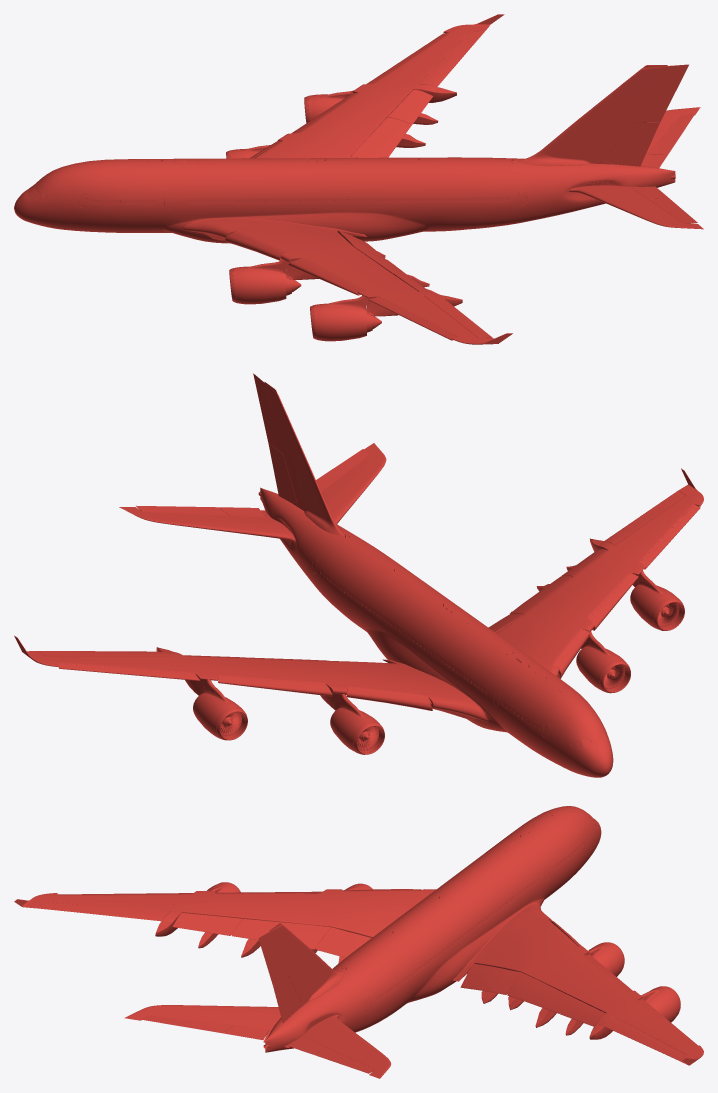
The model's file is Aéroport.glb.
3 views of the same model, one above another, from view 1: azimuth 30°, elevation 25°; view 2: azimuth 150°, elevation 25°; view 3: azimuth 270°, elevation 25° (orthographic). The views are drawn at different scales.
Visible parts, largest first — view 1: 11803_Airplane_v1_l1; view 2: 11803_Airplane_v1_l1; view 3: 11803_Airplane_v1_l1.
Boxes of the visible parts, bbox=[...] form: 11803_Airplane_v1_l1: bbox=[14, 14, 703, 344]; 11803_Airplane_v1_l1: bbox=[14, 373, 703, 777]; 11803_Airplane_v1_l1: bbox=[14, 806, 703, 1078].
Size of the model in its own units: 0.8328 by 0.2425 by 0.8422.
